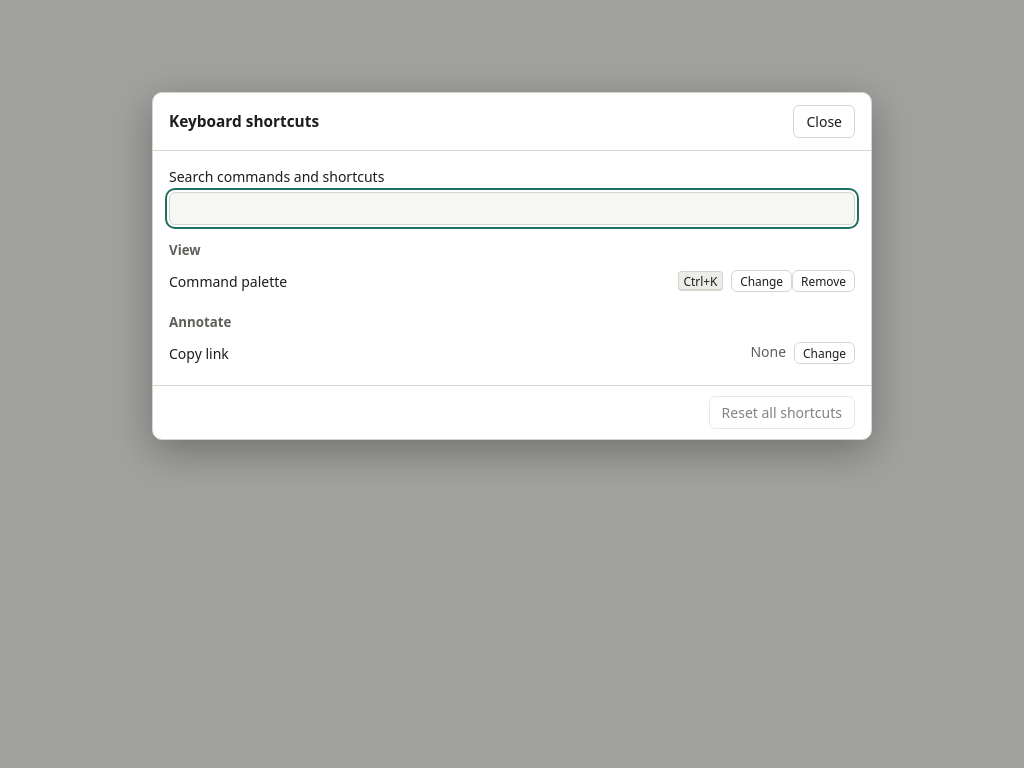
Test case: ShortcutsDialog › records a new shortcut, and Escape cancels without closing
The width and height of the screenshot is (1024, 768).
Click the button "Change" in the row of "Copy link" at (825, 353), box 794,342 -> 855,364
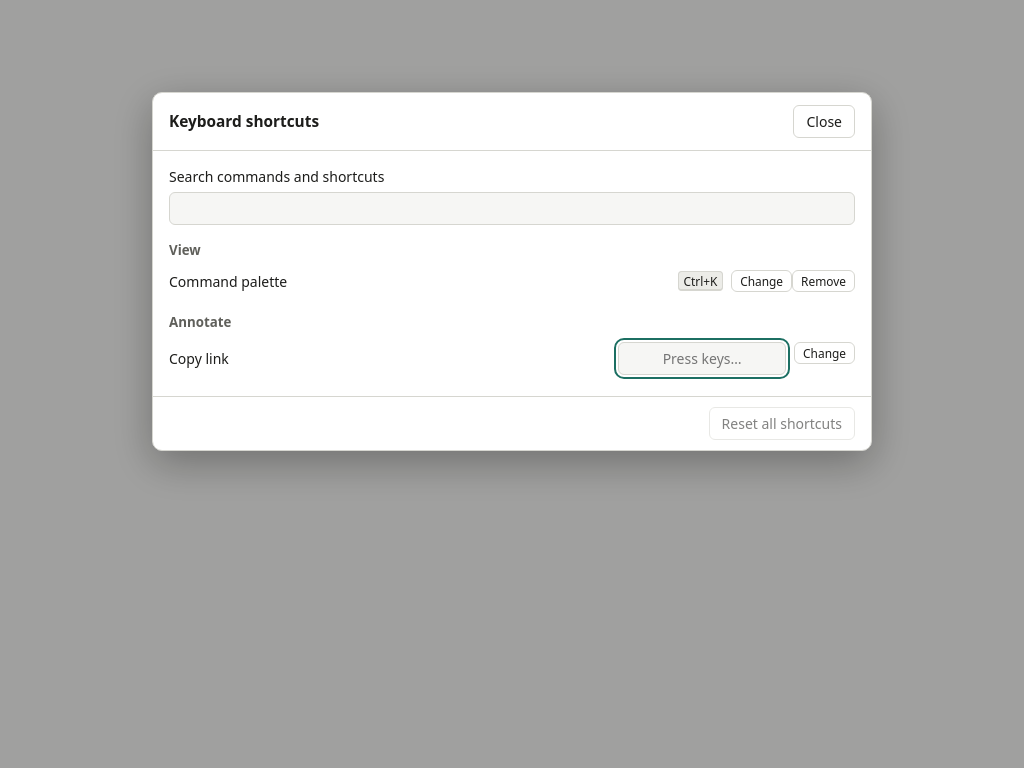
Press Escape
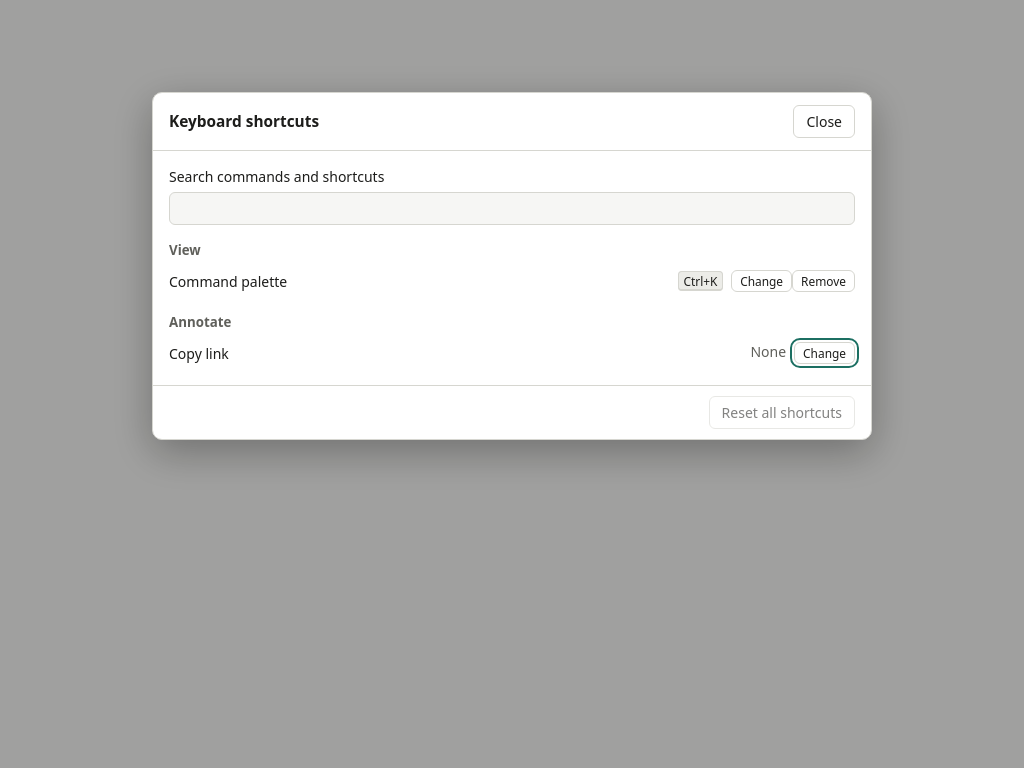
Check: the dialog is shown, box 152,92 -> 872,440
Click the button "Change" in the row of "Copy link" at (825, 353), box 794,342 -> 855,364
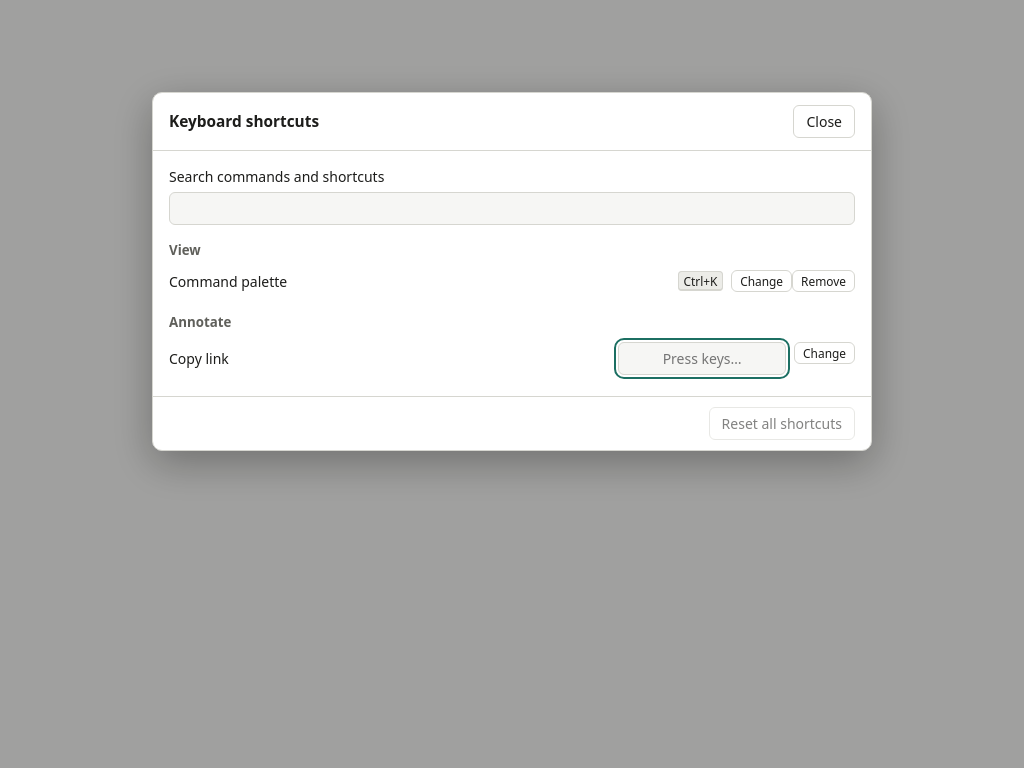
Type keys "{Control>}j{/Control}"
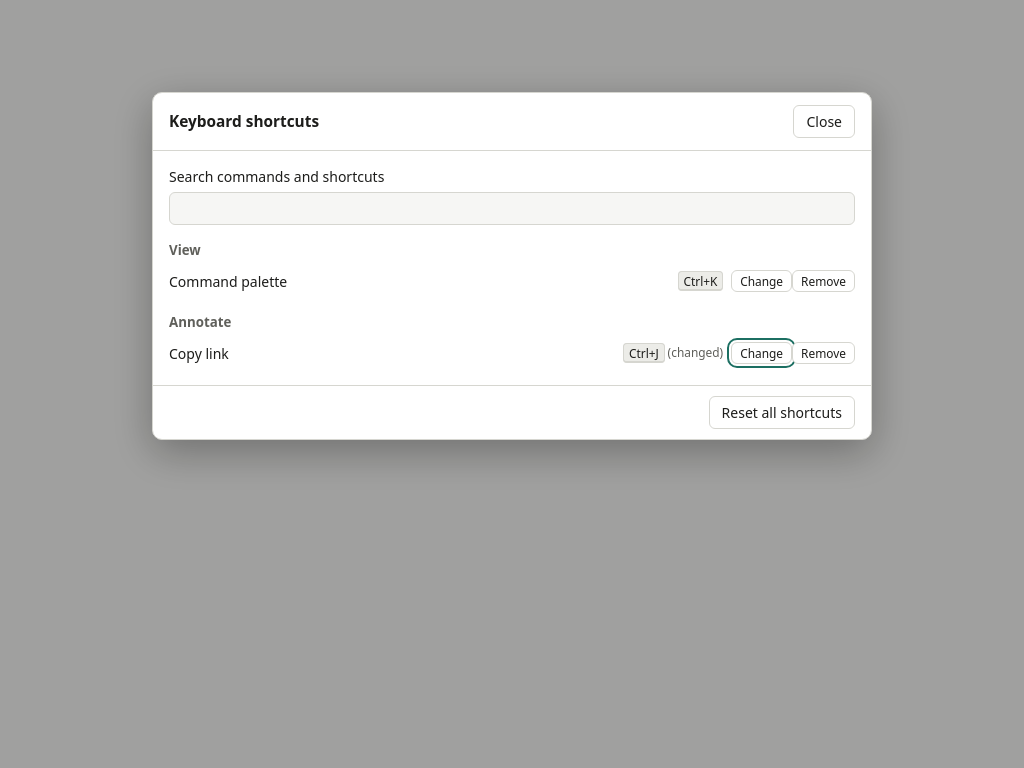
Check: the text "Ctrl+J" is shown, box 623,343 -> 664,363
